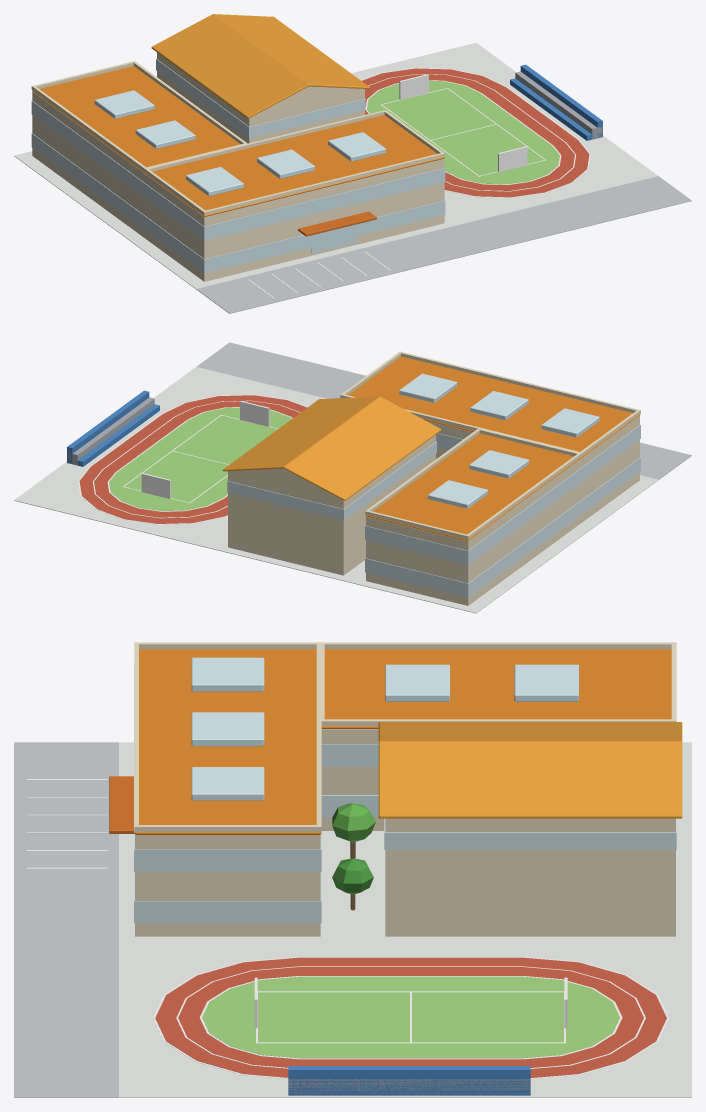
The model's file is highschool.glb.
3 views of the same model, one above another, from view 1: azimuth 30°, elevation 25°; view 2: azimuth 150°, elevation 25°; view 3: azimuth 270°, elevation 25° (orthographic). The views are drawn at different scales.
Parts seen in each view (by area): view 1: highschool; view 2: highschool; view 3: highschool.
Part boxes in pixels (box(x1,y1,x2,y2)): highschool: box(14, 14, 691, 313); highschool: box(14, 342, 691, 613); highschool: box(14, 642, 691, 1097).
Size of the model in its own units: 52 by 10.39 by 42.
